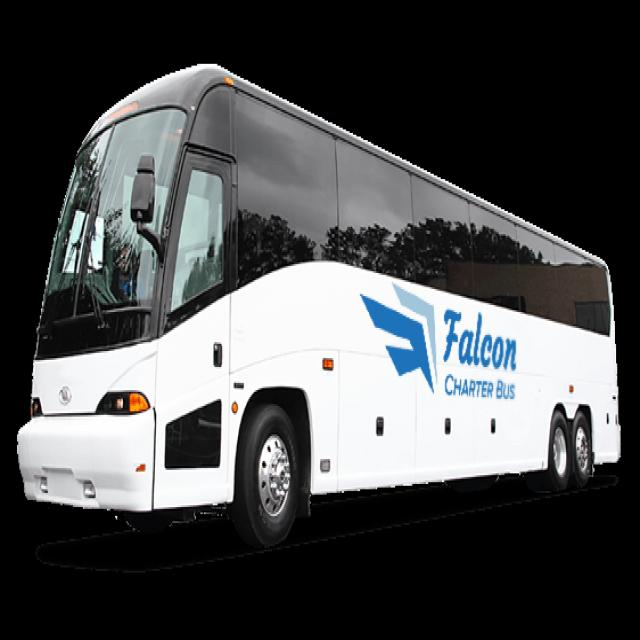bus: (21, 60, 632, 565)
